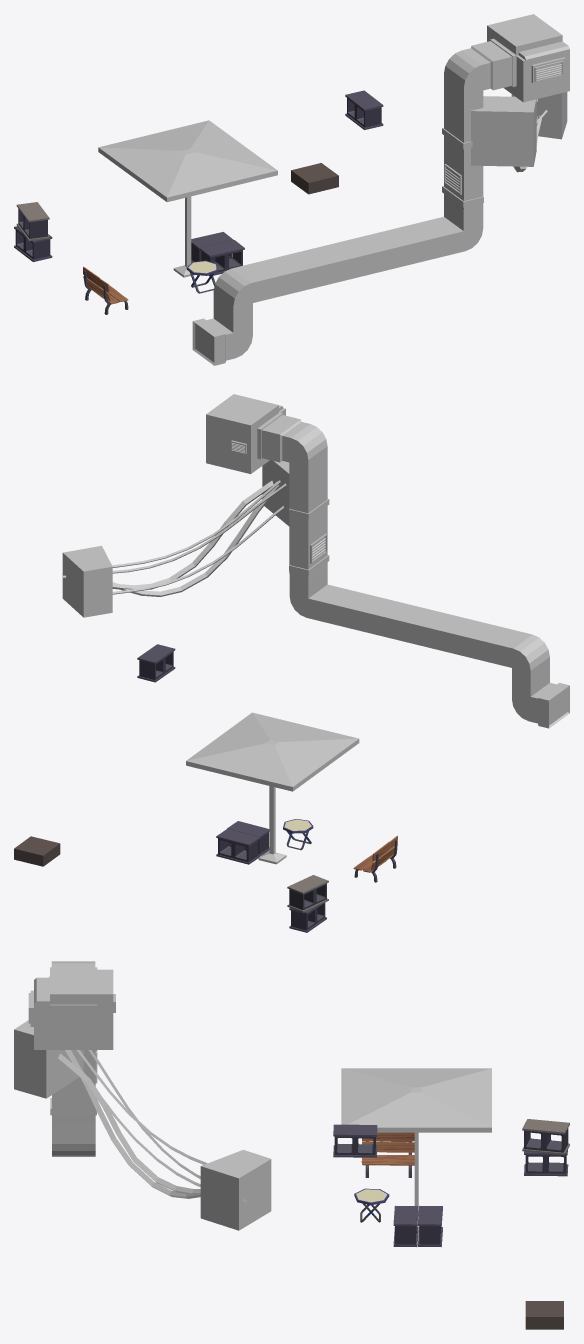
Rendered from CMF1Objects.fbx.
3 views of the same model, one above another, from view 1: azimuth 30°, elevation 25°; view 2: azimuth 150°, elevation 25°; view 3: azimuth 270°, elevation 25° (orthographic). The views are drawn at different scales.
Parts seen in each view (by area): view 1: Vent.011, FK_Umbrella.001, Transformer.010, AP_Cinderblock_New.011, Transformer.009, AP_Cinderblock_New.015, Cube.067, AP_Cinderblock_New.010, FK_Bench.001, AP_Cinderblock_New.012, Cylinder.007; view 2: Vent.011, FK_Umbrella.001, wires.010, Transformer.009, AP_Cinderblock_New.011, Transformer.010, AP_Cinderblock_New.010, AP_Cinderblock_New.015, Cube.067, FK_Bench.001, AP_Cinderblock_New.012; view 3: Vent.011, FK_Umbrella.001, Transformer.009, wires.010, Transformer.010, AP_Cinderblock_New.011, FK_Bench.001, AP_Cinderblock_New.010, AP_Cinderblock_New.015, Cube.067, AP_Cinderblock_New.012, Cylinder.007.
Part boxes in pixels (left/top/right/bottom): Vent.011: left=192, top=14, right=569, bottom=365; FK_Umbrella.001: left=98, top=120, right=277, bottom=277; Transformer.010: left=471, top=96, right=536, bottom=166; AP_Cinderblock_New.011: left=191, top=232, right=244, bottom=276; Transformer.009: left=511, top=92, right=567, bottom=139; AP_Cinderblock_New.015: left=345, top=90, right=383, bottom=129; Cube.067: left=291, top=163, right=338, bottom=194; AP_Cinderblock_New.010: left=16, top=202, right=49, bottom=241; FK_Bench.001: left=83, top=267, right=128, bottom=314; AP_Cinderblock_New.012: left=14, top=226, right=52, bottom=261; Cylinder.007: left=186, top=260, right=217, bottom=293; Vent.011: left=206, top=394, right=569, bottom=728; FK_Umbrella.001: left=186, top=712, right=359, bottom=864; wires.010: left=63, top=480, right=286, bottom=596; Transformer.009: left=62, top=545, right=112, bottom=617; AP_Cinderblock_New.011: left=216, top=821, right=269, bottom=864; Transformer.010: left=262, top=460, right=289, bottom=526; AP_Cinderblock_New.010: left=287, top=875, right=328, bottom=912; AP_Cinderblock_New.015: left=137, top=644, right=175, bottom=682; Cube.067: left=14, top=836, right=60, bottom=866; FK_Bench.001: left=353, top=835, right=397, bottom=882; AP_Cinderblock_New.012: left=289, top=902, right=326, bottom=932; Vent.011: left=28, top=961, right=115, bottom=1156; FK_Umbrella.001: left=341, top=1068, right=491, bottom=1226; Transformer.009: left=200, top=1149, right=271, bottom=1230; wires.010: left=58, top=1050, right=246, bottom=1202; Transformer.010: left=14, top=1020, right=83, bottom=1098; AP_Cinderblock_New.011: left=393, top=1205, right=442, bottom=1247; FK_Bench.001: left=361, top=1132, right=414, bottom=1177; AP_Cinderblock_New.010: left=522, top=1119, right=569, bottom=1155; AP_Cinderblock_New.015: left=333, top=1124, right=377, bottom=1157; Cube.067: left=525, top=1301, right=563, bottom=1329; AP_Cinderblock_New.012: left=524, top=1150, right=568, bottom=1176; Cylinder.007: left=354, top=1188, right=389, bottom=1222.
Size of the model in its own units: 2891 by 1943 by 2890.
